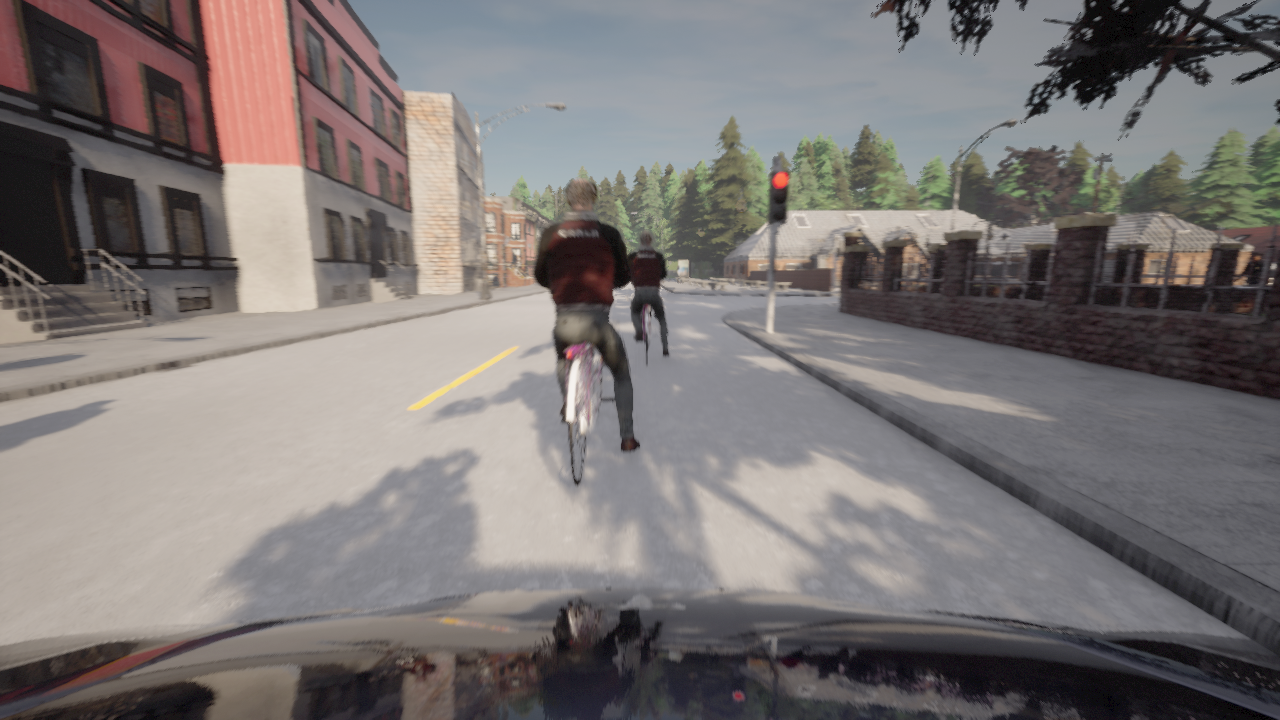cyclist: (0, 588, 1279, 719), (560, 343, 613, 486), (636, 304, 657, 365)
pedestrian: (1235, 253, 1270, 285), (868, 277, 869, 278)
